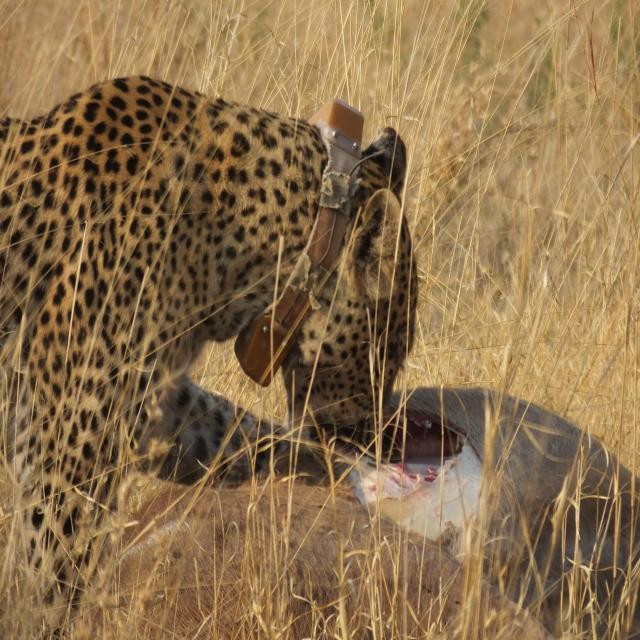Leopard: (0, 77, 435, 640)
